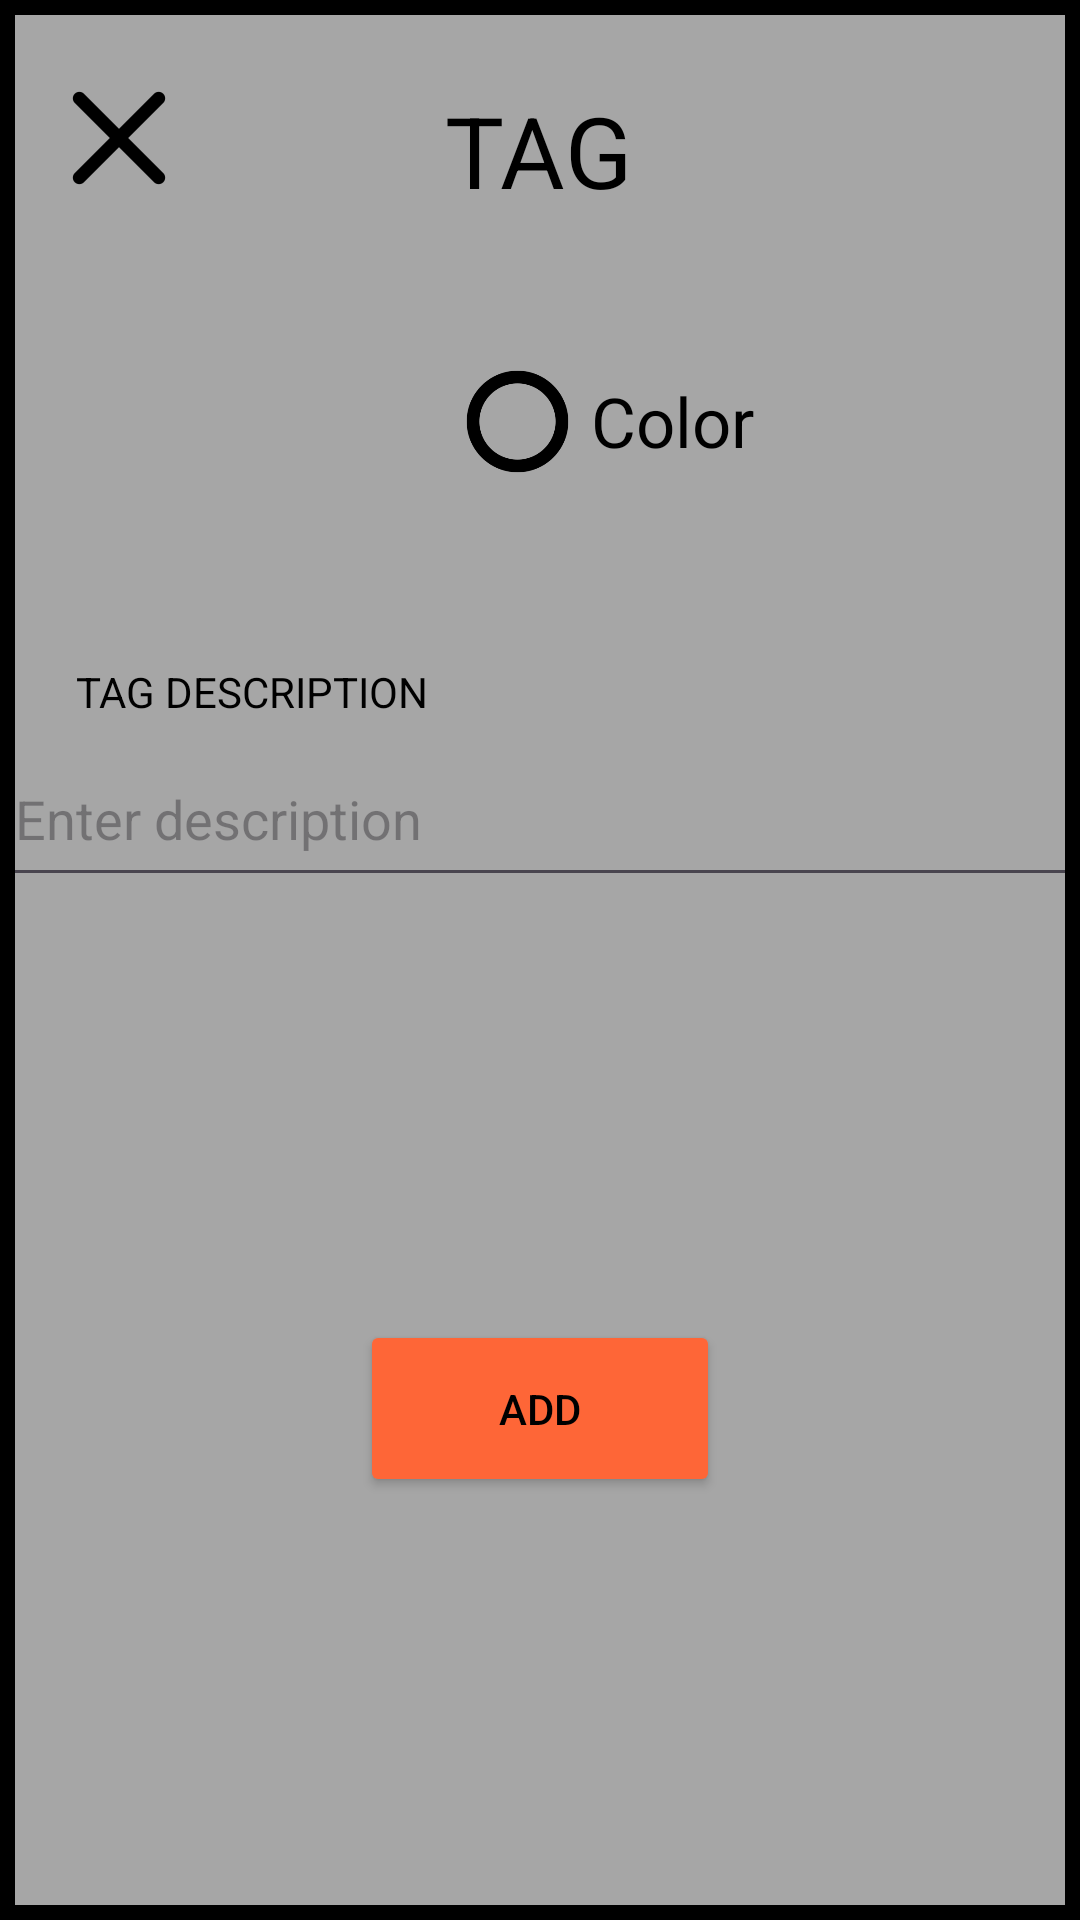

Icon bounding boxes for this 1080*1920 phone screenshot, format bbox(x1, y1, x2, y2):
exit: bbox(73, 92, 165, 184)
